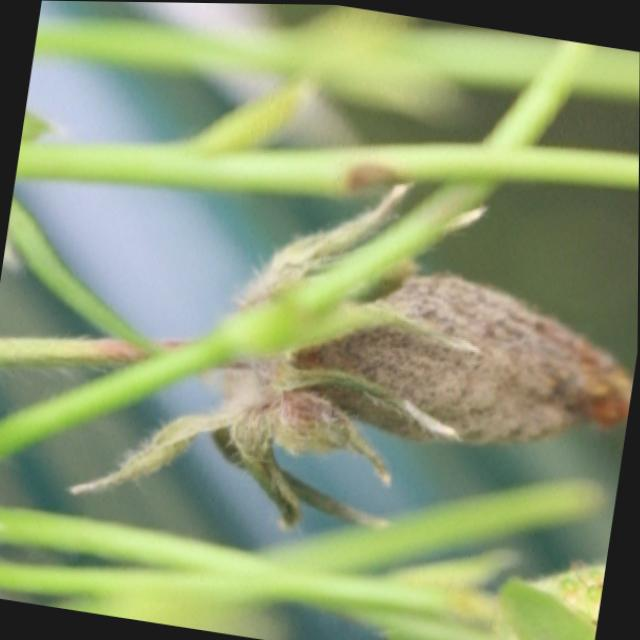Gray Mold: (73, 177, 636, 529)
